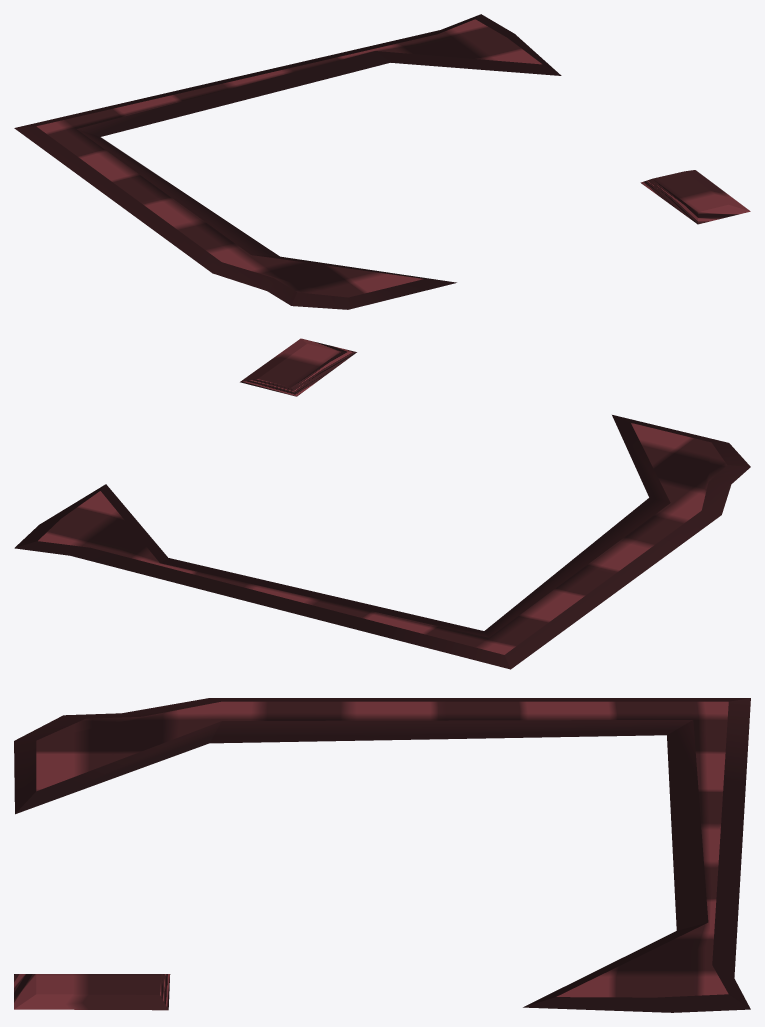
File: CarpetSqeurBroken.fbx
The picture shows the model from 3 angles, top to bottom: view 1: azimuth 30°, elevation 25°; view 2: azimuth 150°, elevation 25°; view 3: azimuth 270°, elevation 25°; orthographic projection. The views are drawn at different scales.
Parts seen in each view (by area): view 1: SqeurCarpetBroken; view 2: SqeurCarpetBroken; view 3: SqeurCarpetBroken.
Boxes of the visible parts, box(x1,y1,x2,y2) form: SqeurCarpetBroken: box(14, 14, 750, 309); SqeurCarpetBroken: box(14, 338, 750, 669); SqeurCarpetBroken: box(14, 698, 750, 1012).
Bounding box in the file's own units: 7.75 × 0.0675 × 7.67.
1 material, 1 textured.
